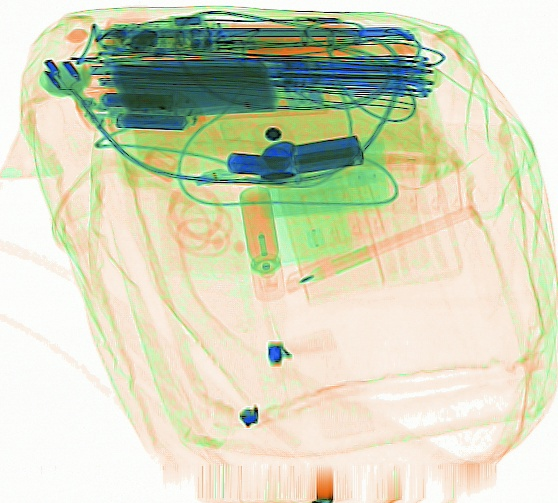pressure: (238, 184, 286, 305)
